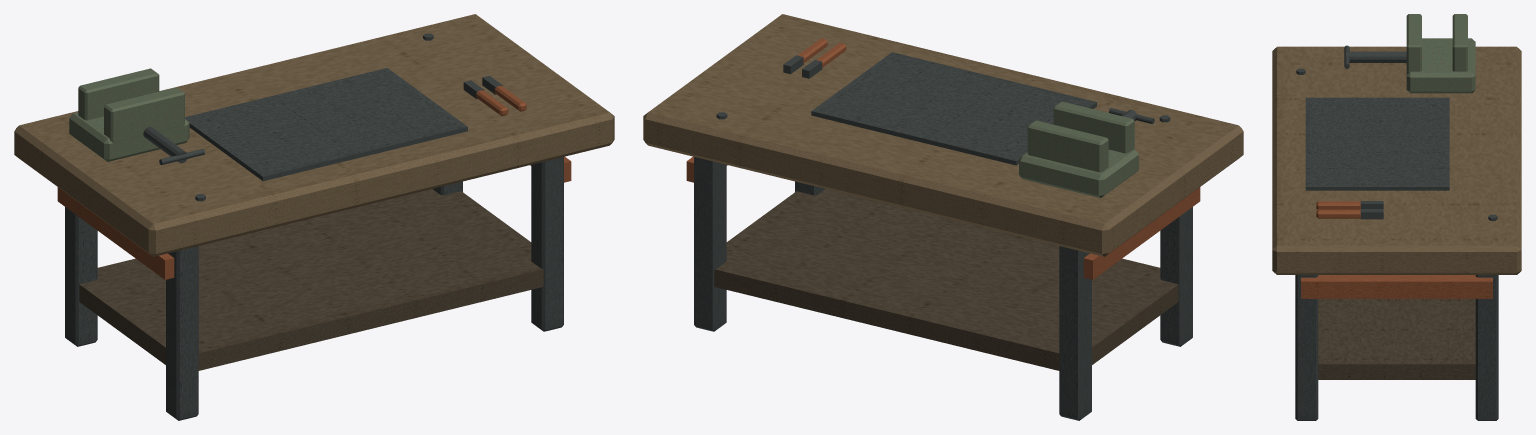
File: Workbench.fbx
3 views of the same model, side by side, from view 1: azimuth 30°, elevation 25°; view 2: azimuth 150°, elevation 25°; view 3: azimuth 270°, elevation 25° (orthographic). The views are drawn at different scales.
Visible parts, largest first — view 1: Workbench; view 2: Workbench; view 3: Workbench.
Part boxes in pixels (bbox=[...]): Workbench: bbox=[14, 14, 614, 420]; Workbench: bbox=[643, 14, 1243, 420]; Workbench: bbox=[1272, 14, 1521, 420].
Bounding box in the file's own units: 250 × 137 × 130.
Materials: 1 (1 with a texture image).
